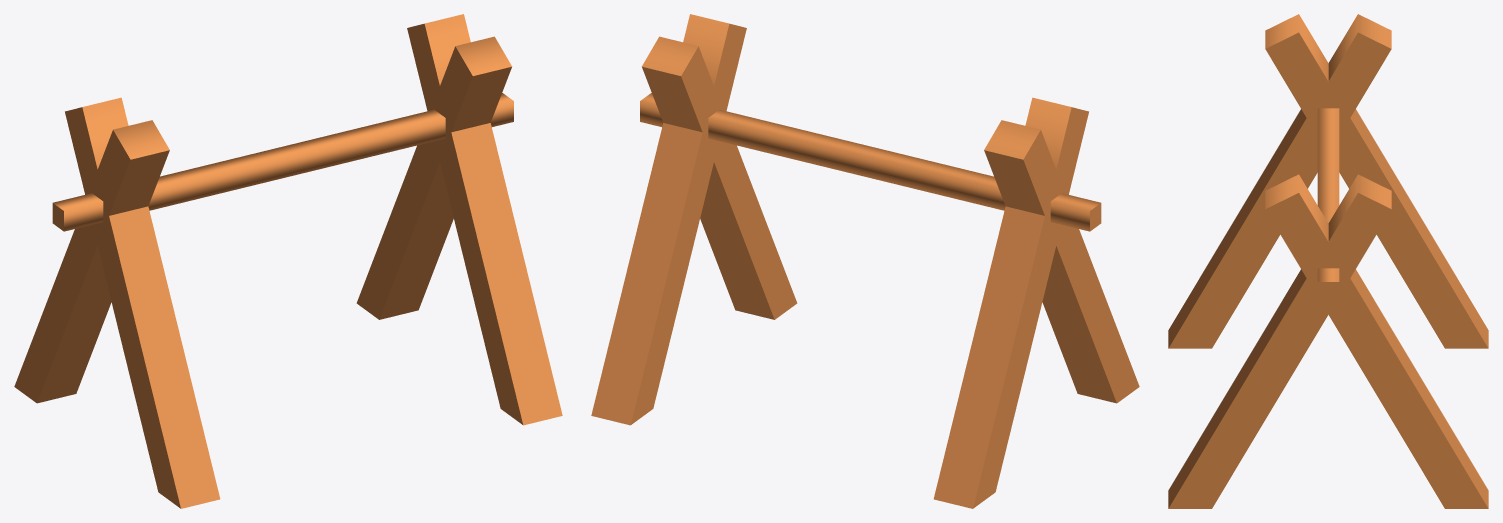
Rendered from drying-rack.glb.
3 views of the same model, side by side, from view 1: azimuth 30°, elevation 25°; view 2: azimuth 150°, elevation 25°; view 3: azimuth 270°, elevation 25° (orthographic). The views are drawn at different scales.
Visible parts, largest first — view 1: fishingStand; view 2: fishingStand; view 3: fishingStand.
Boxes of the visible parts, left/top/right/bottom form: fishingStand: left=14, top=14, right=562, bottom=508; fishingStand: left=591, top=14, right=1139, bottom=508; fishingStand: left=1168, top=14, right=1488, bottom=508.
Size of the model in its own units: 0.3945 by 0.276 by 0.2533.
